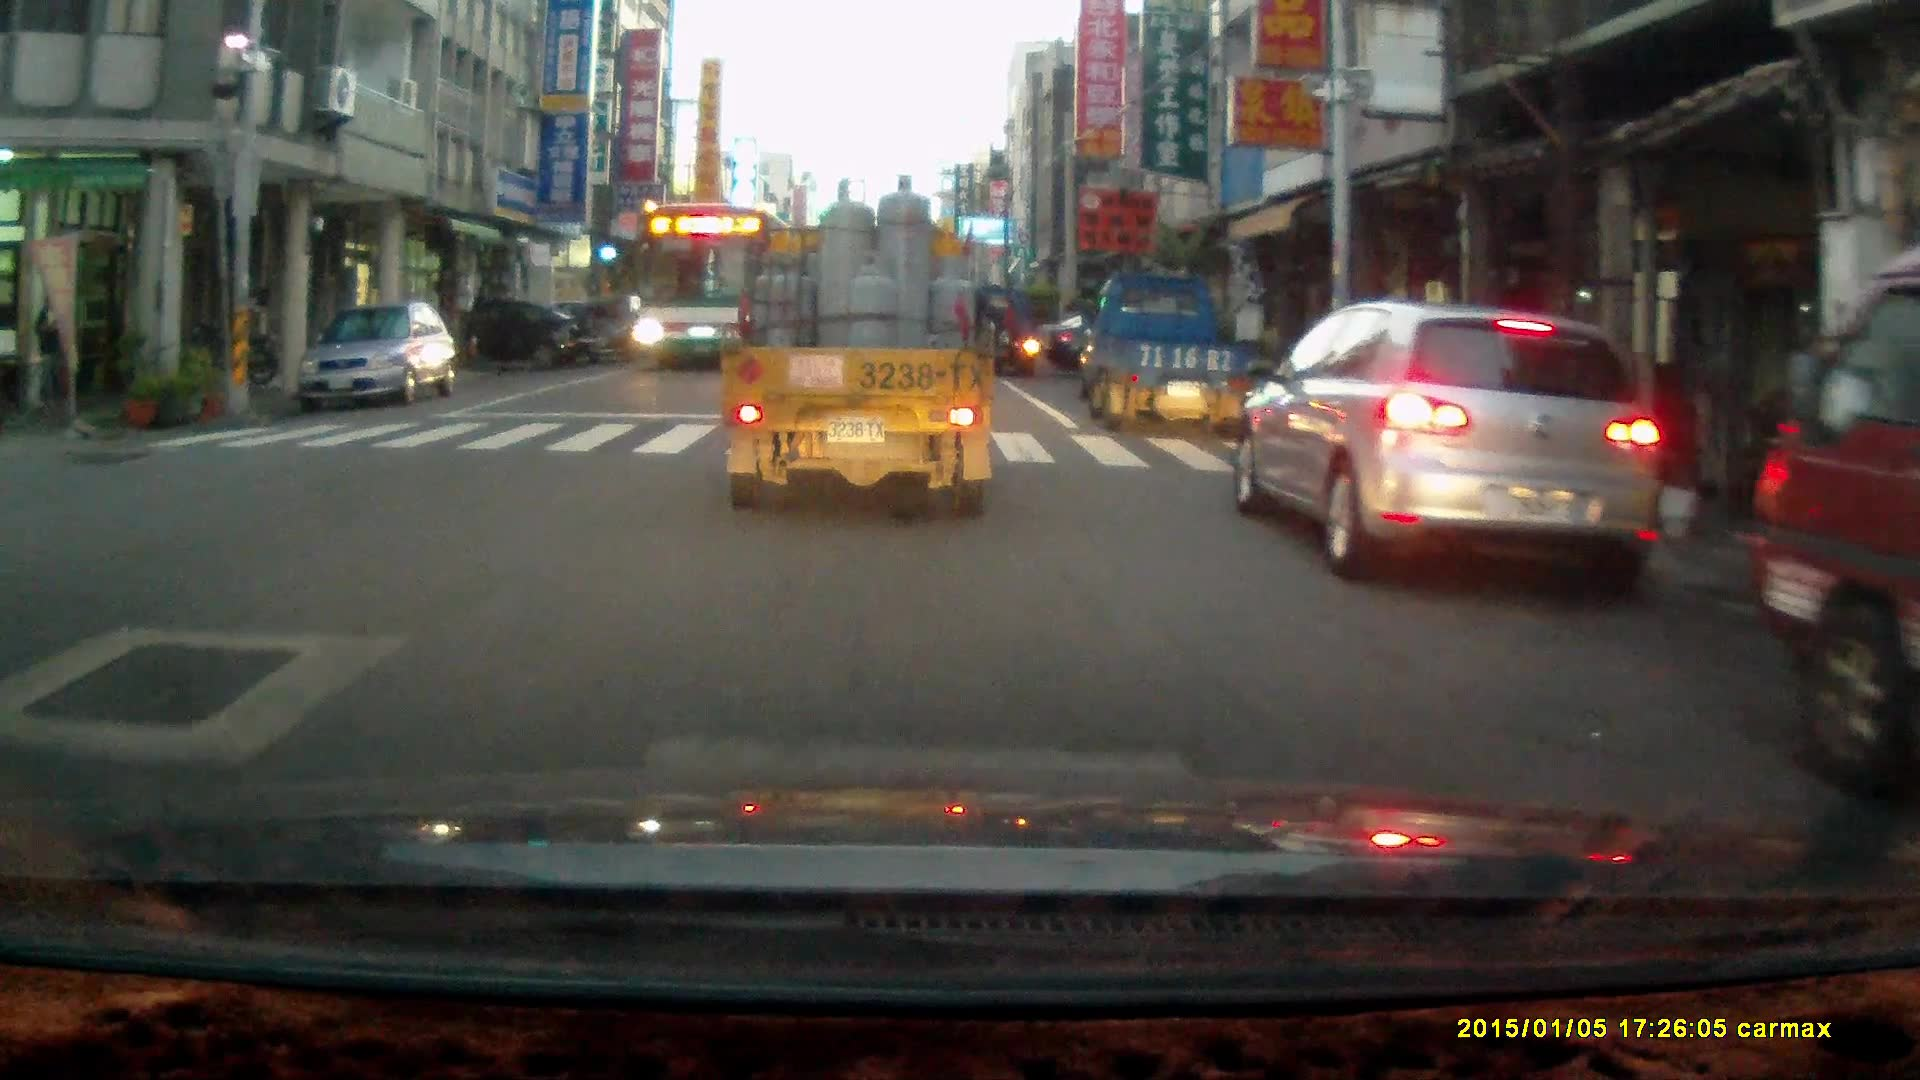pedestrian: (32, 282, 66, 418), (996, 293, 1021, 372)
vehicle: (1236, 299, 1662, 595), (726, 171, 994, 519), (1740, 273, 1920, 712), (1077, 267, 1250, 431), (625, 203, 785, 376), (293, 301, 461, 416), (394, 297, 595, 371), (571, 294, 667, 365)
